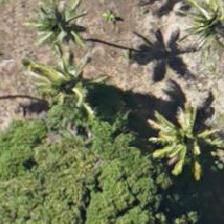coconut_tree: (15, 57, 105, 147), (146, 91, 223, 181), (169, 0, 223, 63)
